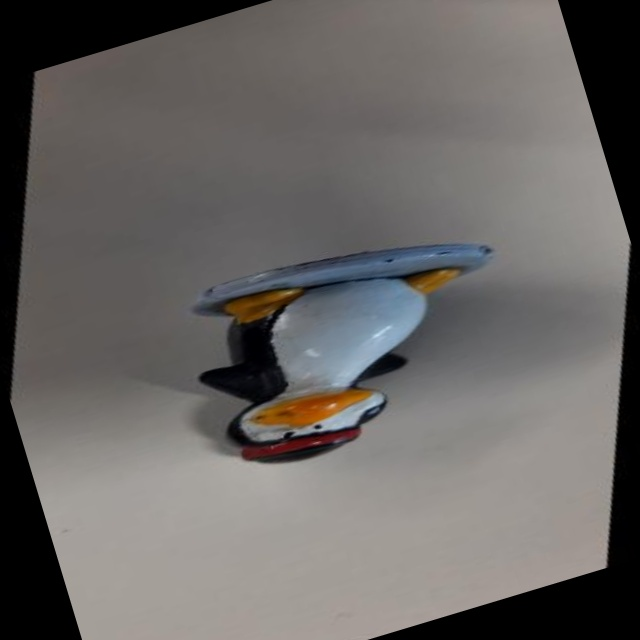Penguin: (113, 191, 557, 520)
